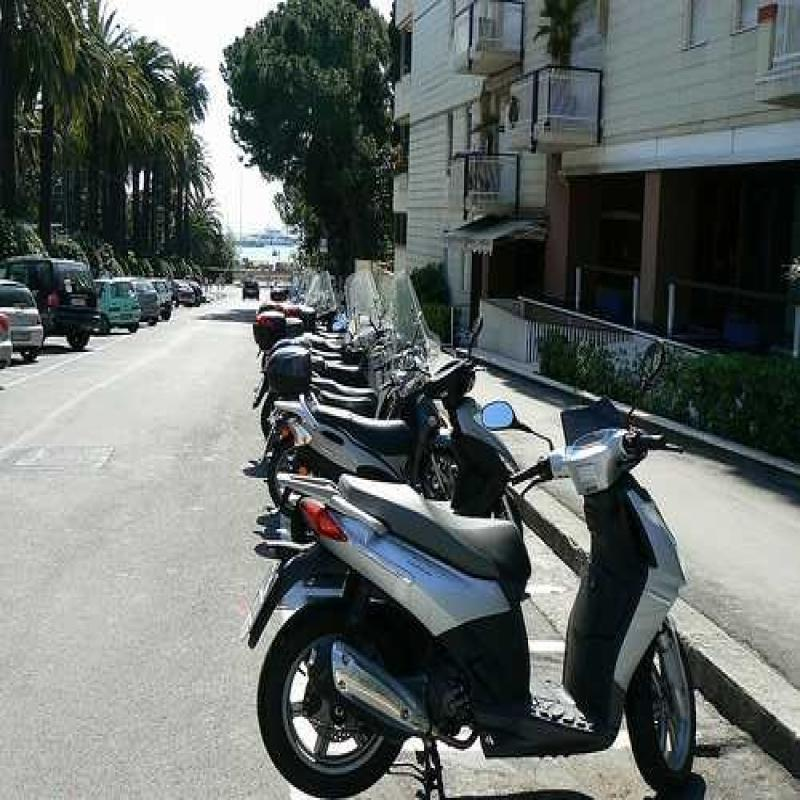bike: (270, 427, 720, 778), (284, 390, 567, 556), (292, 359, 524, 427)
